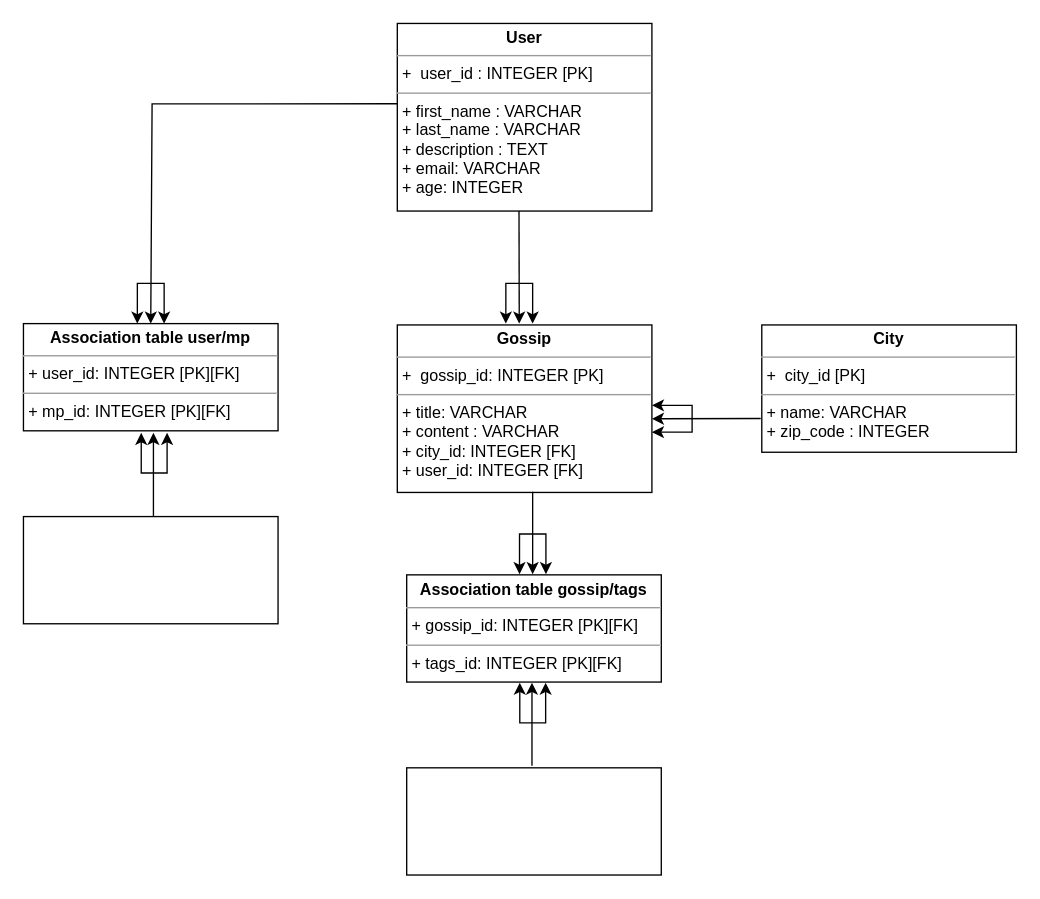
This 1040x899 diagram has some shape labels left out. The shapes that lost their labels are listed below. From the top down, each one's box as (x1, y1, x2, y2) in pixels, then its label:
(22, 515, 278, 624): PrivateMessage + mp_id: INTEGER [PK] + content: TEXT
(405, 766, 661, 875): Tags + tags_id: INTEGER [PK] + title: VARCHAR
